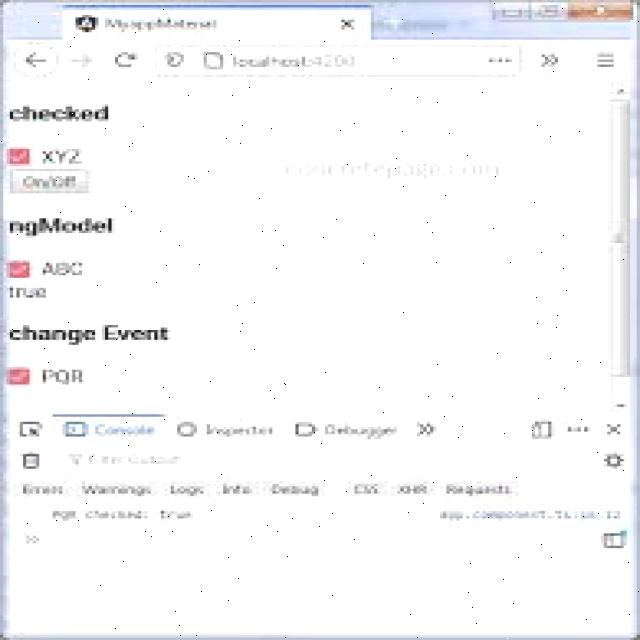button: (113, 49, 143, 73), (16, 418, 46, 440), (534, 0, 564, 22), (493, 2, 524, 23), (62, 420, 93, 440), (536, 51, 566, 71), (591, 48, 617, 70), (530, 419, 556, 440), (414, 419, 440, 440), (294, 419, 320, 439), (19, 447, 40, 471), (68, 50, 93, 70), (585, 0, 611, 19), (201, 52, 225, 72), (175, 419, 199, 439), (162, 50, 185, 70), (601, 452, 624, 471), (23, 51, 47, 69), (604, 419, 624, 438), (564, 424, 593, 436), (487, 56, 511, 68)
checkbox: (5, 148, 32, 166), (8, 260, 32, 280), (6, 367, 30, 385)
dropdownMenu: (9, 169, 89, 195)
icon: (74, 9, 100, 37)
tabControl: (53, 2, 374, 45)
